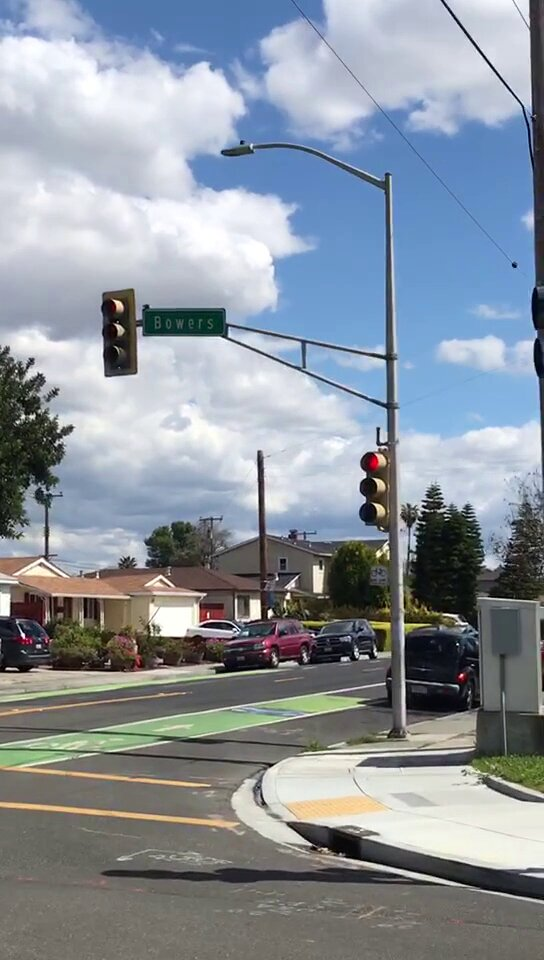red_light: (358, 451, 387, 527)
